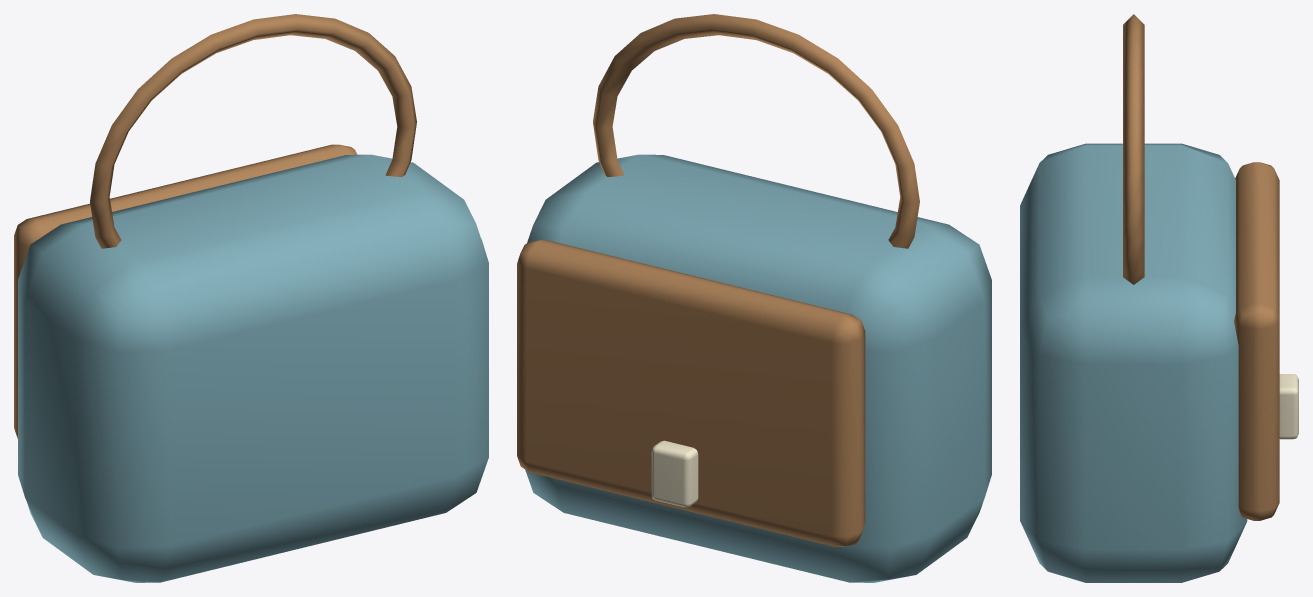
File: quest_camera_bag.glb
The picture shows the model from 3 angles, left to right: view 1: azimuth 30°, elevation 25°; view 2: azimuth 150°, elevation 25°; view 3: azimuth 270°, elevation 25°; orthographic projection. The views are drawn at different scales.
Bounding box in the file's own units: 0.37 × 0.444 × 0.233.
